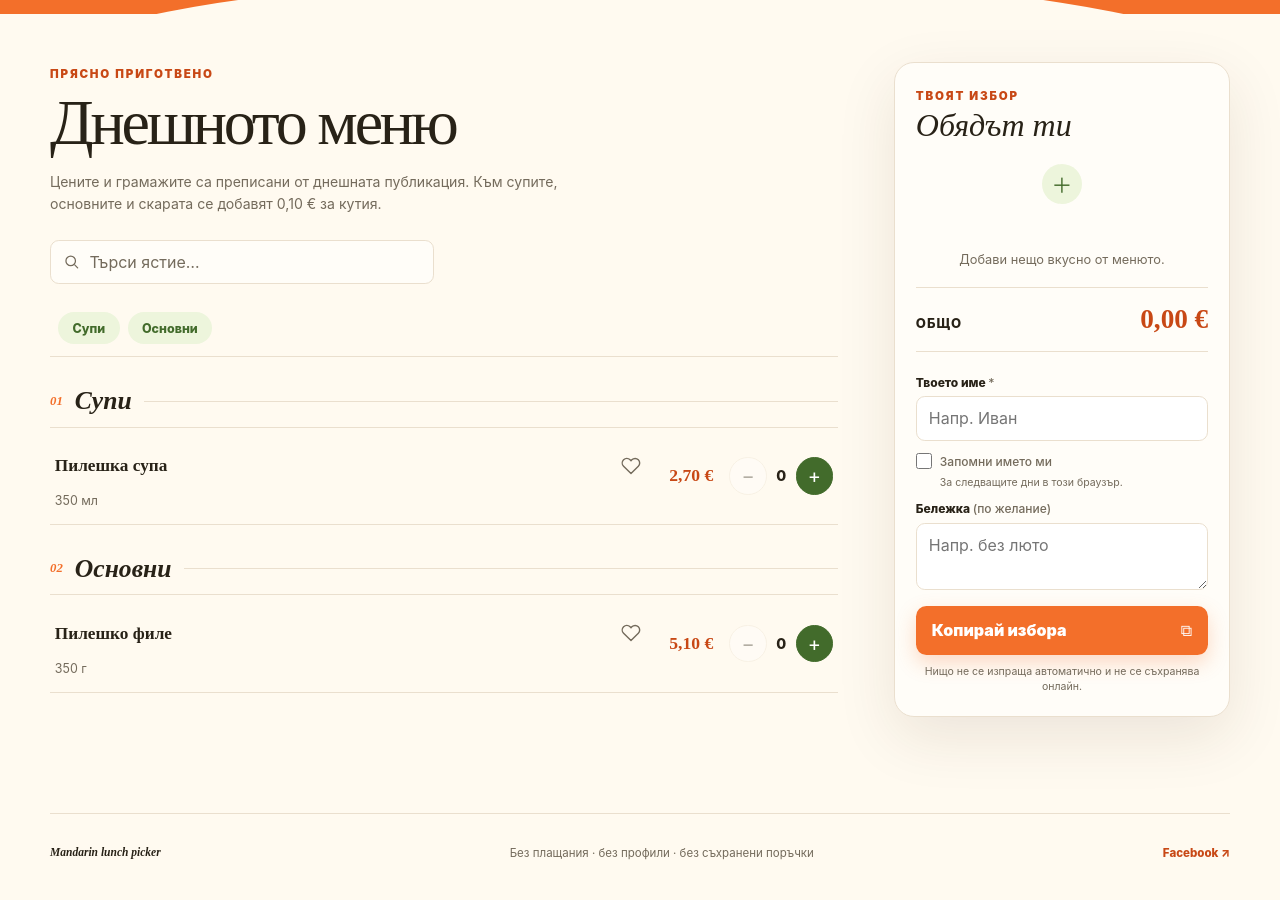
Scenario: dish favorites › retains unsaved favorites through a failed event read and merges the latest saved list before retrying
(page scrolled)
Click the button named "Любимо ястие: Пилешка супа". click: (631, 466)
box: top-left (609, 444), bottom-right (653, 488)
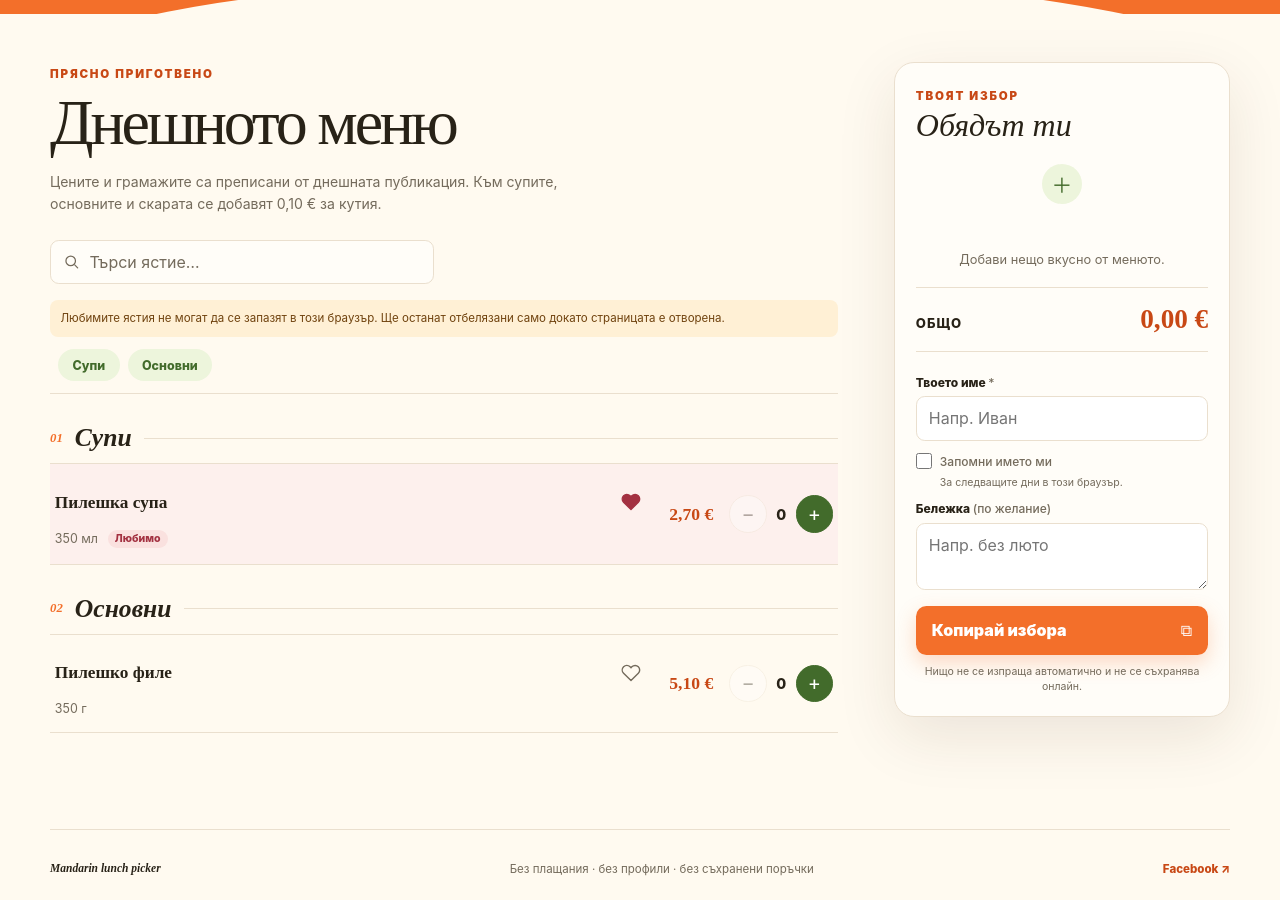
Expected: the button named "Любимо ястие: Пилешка супа" is shown, top-left (609, 480), bottom-right (653, 524)
Click the button named "Любимо ястие: Пилешко филе". click: (631, 673)
box: top-left (609, 651), bottom-right (653, 695)
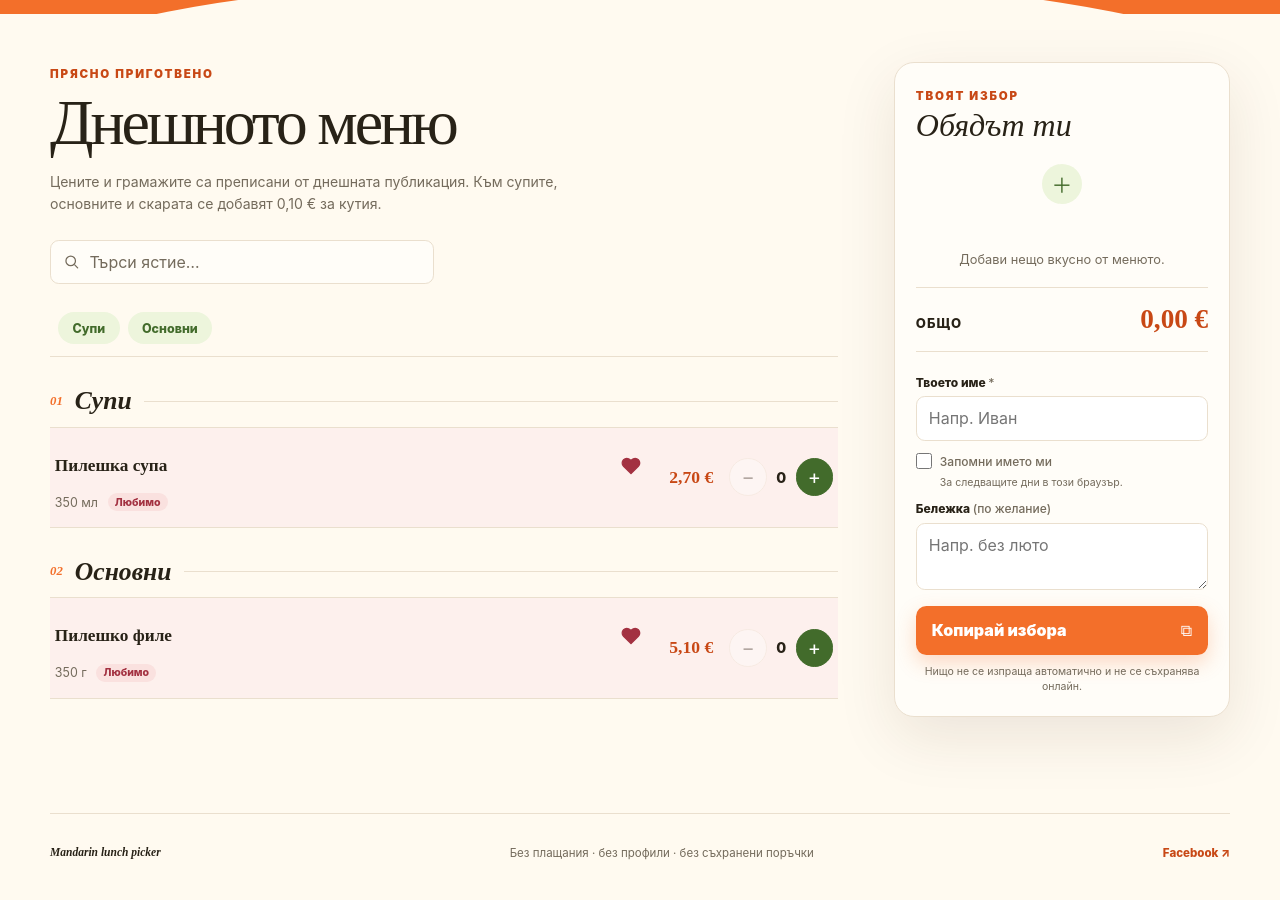
Result: the text "Любимите ястия не могат да се запазят" is gone
